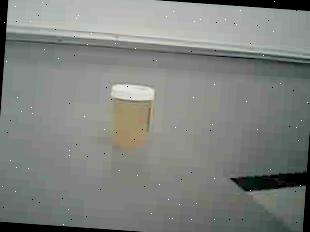Bottle B: (104, 79, 160, 156)
